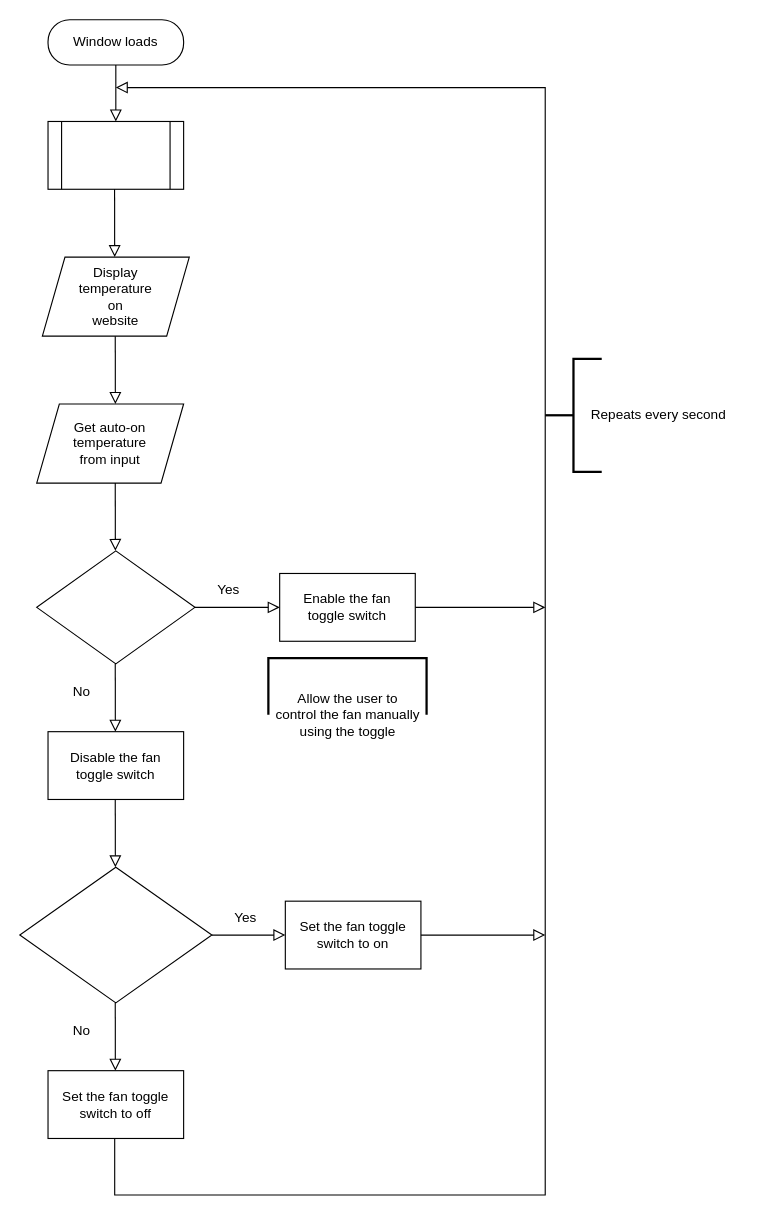
This 757x1226 diagram has some shape labels left out. The centre of each missing label's shape, as x and y in pixels:
Get temperature from Firebase: the point at 115,154
Is the auto-on temperature empty?: the point at 115,607
Is the current temperature greater than the auto-on temperature?: the point at 115,934
